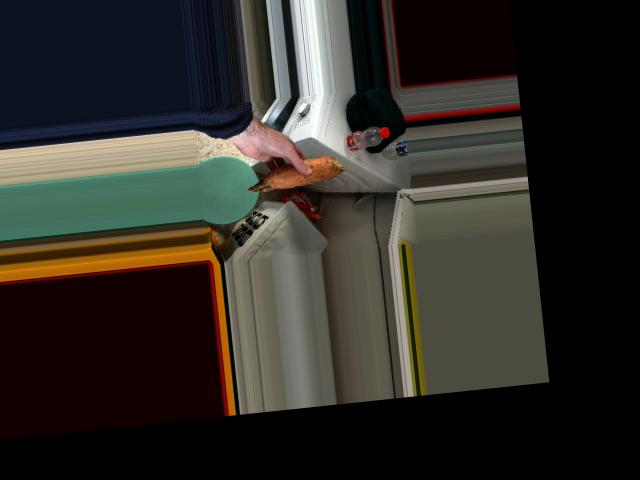sweet_potato: (243, 156, 339, 193)
